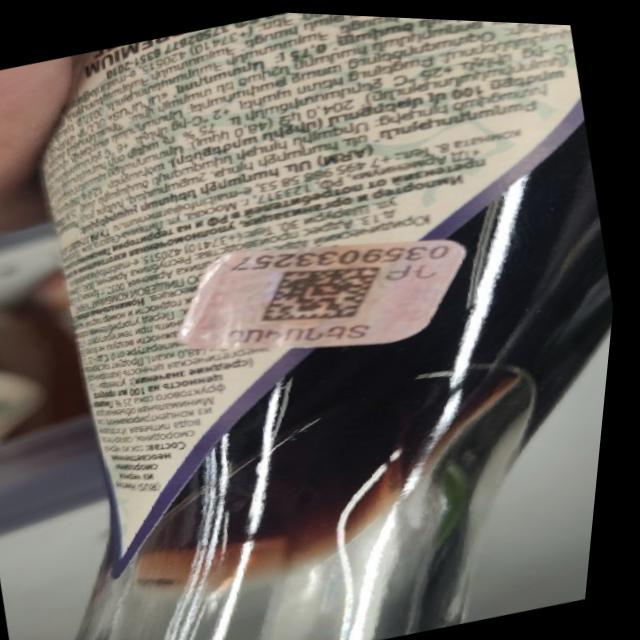datamatrix: (255, 244, 399, 338)
